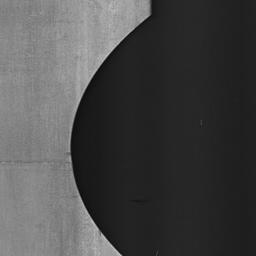Crescent gap: (70, 17, 149, 256)
